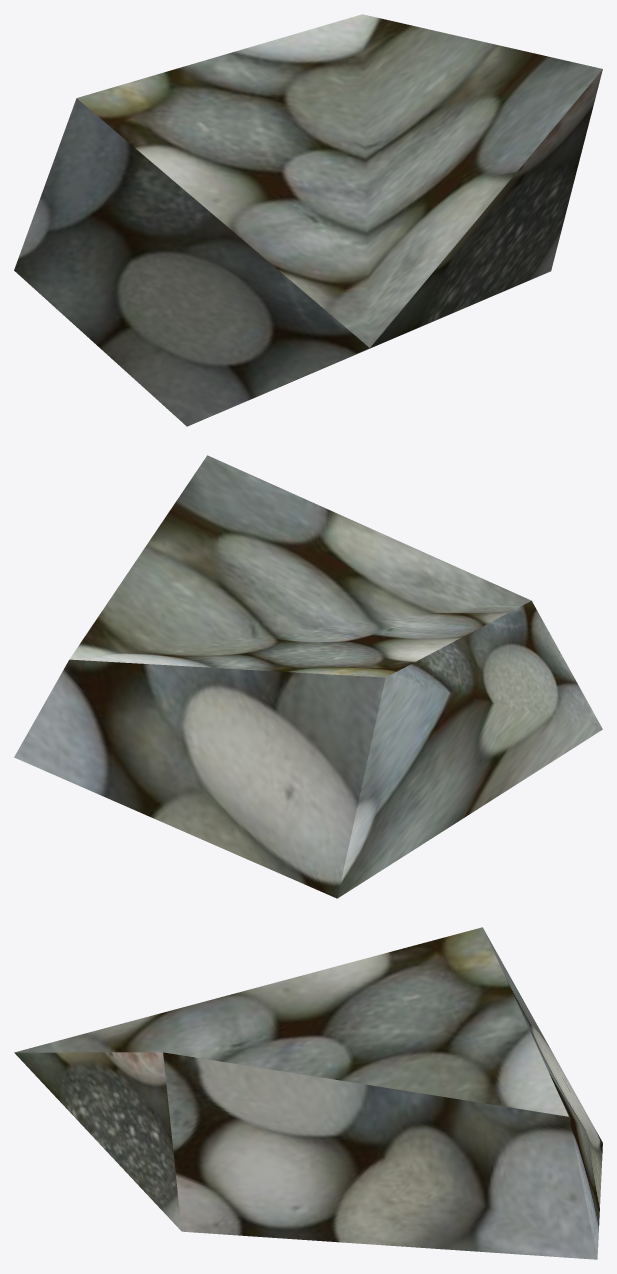
The model's file is pebble_pile_diminished.obj.
3 renders of one model, top to bottom at view 1: azimuth 30°, elevation 25°; view 2: azimuth 150°, elevation 25°; view 3: azimuth 270°, elevation 25°, orthographic. The views are drawn at different scales.
Visible parts, largest first — view 1: Cube; view 2: Cube; view 3: Cube.
Part boxes in pixels (x1=…): Cube: x1=14, y1=14, x2=602, y2=426; Cube: x1=14, y1=455, x2=602, y2=898; Cube: x1=14, y1=927, x2=602, y2=1259.
Size of the model in its own units: 2.91 by 1.67 by 3.26.
